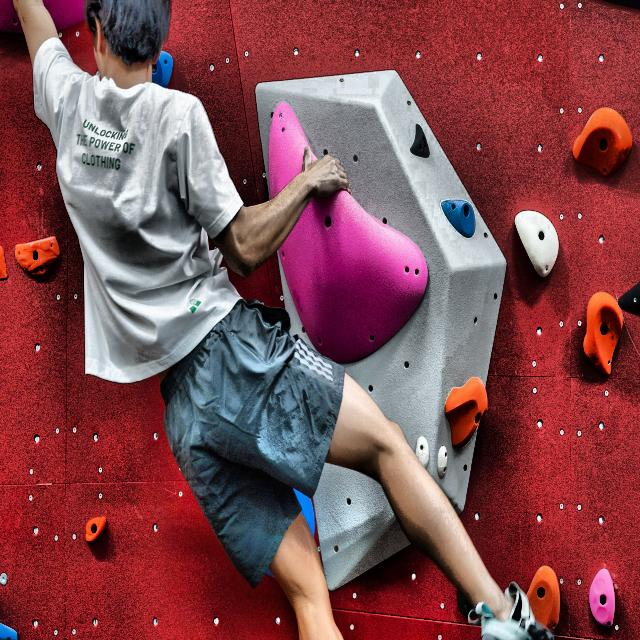Hold: (573, 108, 632, 176), (583, 292, 623, 376), (445, 377, 487, 448), (515, 211, 558, 278), (530, 566, 559, 630), (15, 236, 60, 276), (590, 568, 615, 628), (442, 199, 476, 238), (410, 125, 430, 158), (85, 515, 106, 543), (437, 445, 449, 479), (416, 437, 429, 467)
Macro: (268, 111, 427, 359)
Volume: (256, 68, 509, 591)
